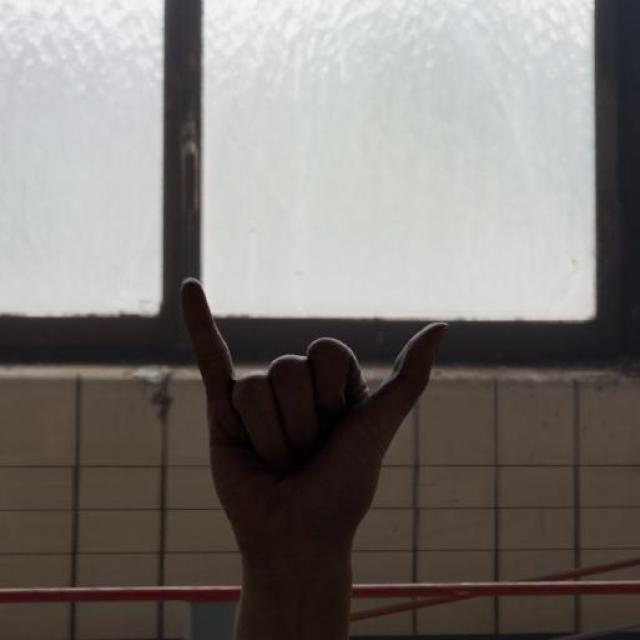Y: (169, 265, 460, 593)
